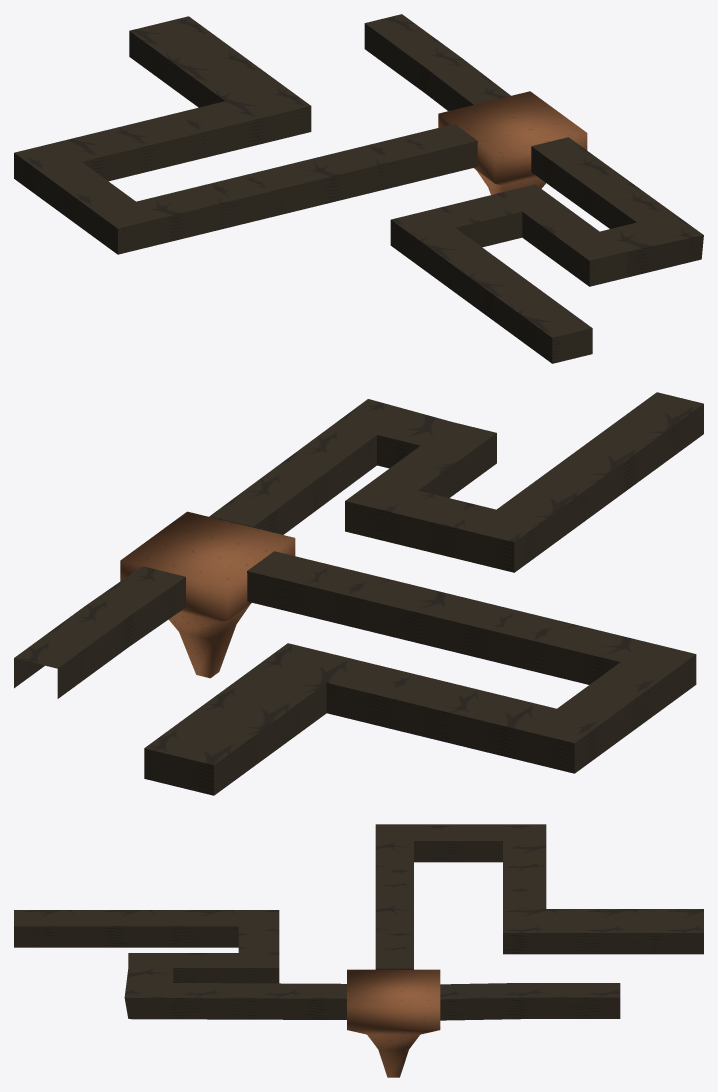
The model's file is pont.fbx.
3 views of the same model, one above another, from view 1: azimuth 30°, elevation 25°; view 2: azimuth 150°, elevation 25°; view 3: azimuth 270°, elevation 25° (orthographic). The views are drawn at different scales.
Parts seen in each view (by area): view 1: Box002, Box003; view 2: Box002, Box003; view 3: Box002, Box003.
Part boxes in pixels (<box>): Box002: <box>14,14,703,363</box>; Box003: <box>438,91,587,194</box>; Box002: <box>14,392,703,795</box>; Box003: <box>120,511,295,678</box>; Box002: <box>14,824,703,1020</box>; Box003: <box>347,969,440,1077</box>.
Bounding box in the file's own units: 75.32 × 17.12 × 121.
2 materials, 2 textured.
